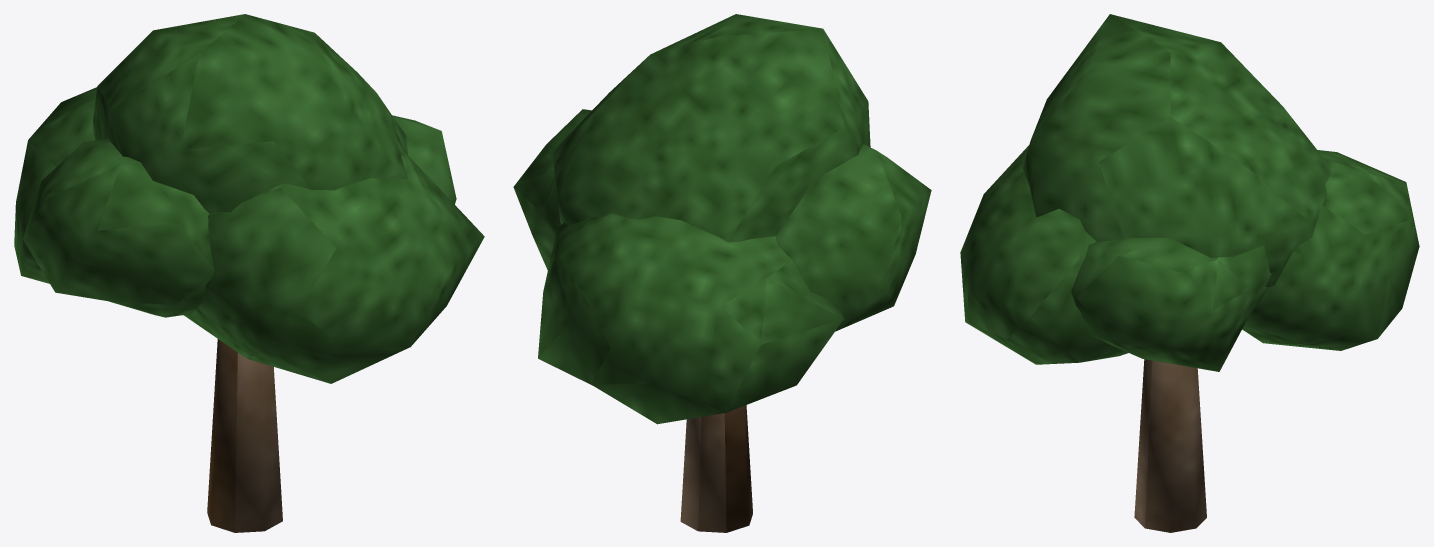
File: ambient_tree_6.glb
3 views of the same model, side by side, from view 1: azimuth 30°, elevation 25°; view 2: azimuth 150°, elevation 25°; view 3: azimuth 270°, elevation 25° (orthographic). The views are drawn at different scales.
Visible parts, largest first — view 1: ambient_tree_6; view 2: ambient_tree_6; view 3: ambient_tree_6.
Part boxes in pixels (bbox=[...]): ambient_tree_6: bbox=[14, 14, 484, 532]; ambient_tree_6: bbox=[513, 14, 931, 532]; ambient_tree_6: bbox=[960, 14, 1419, 532].
Bounding box in the file's own units: 3.75 × 4.66 × 4.14.
Materials: 2 (2 with a texture image).
